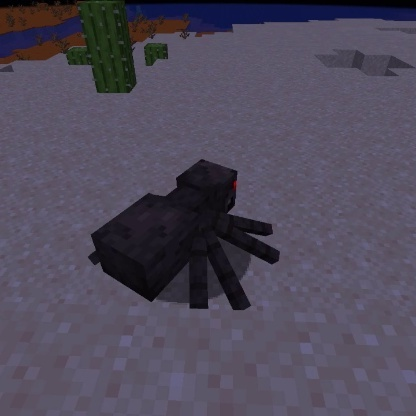spider: (83, 155, 284, 311)
